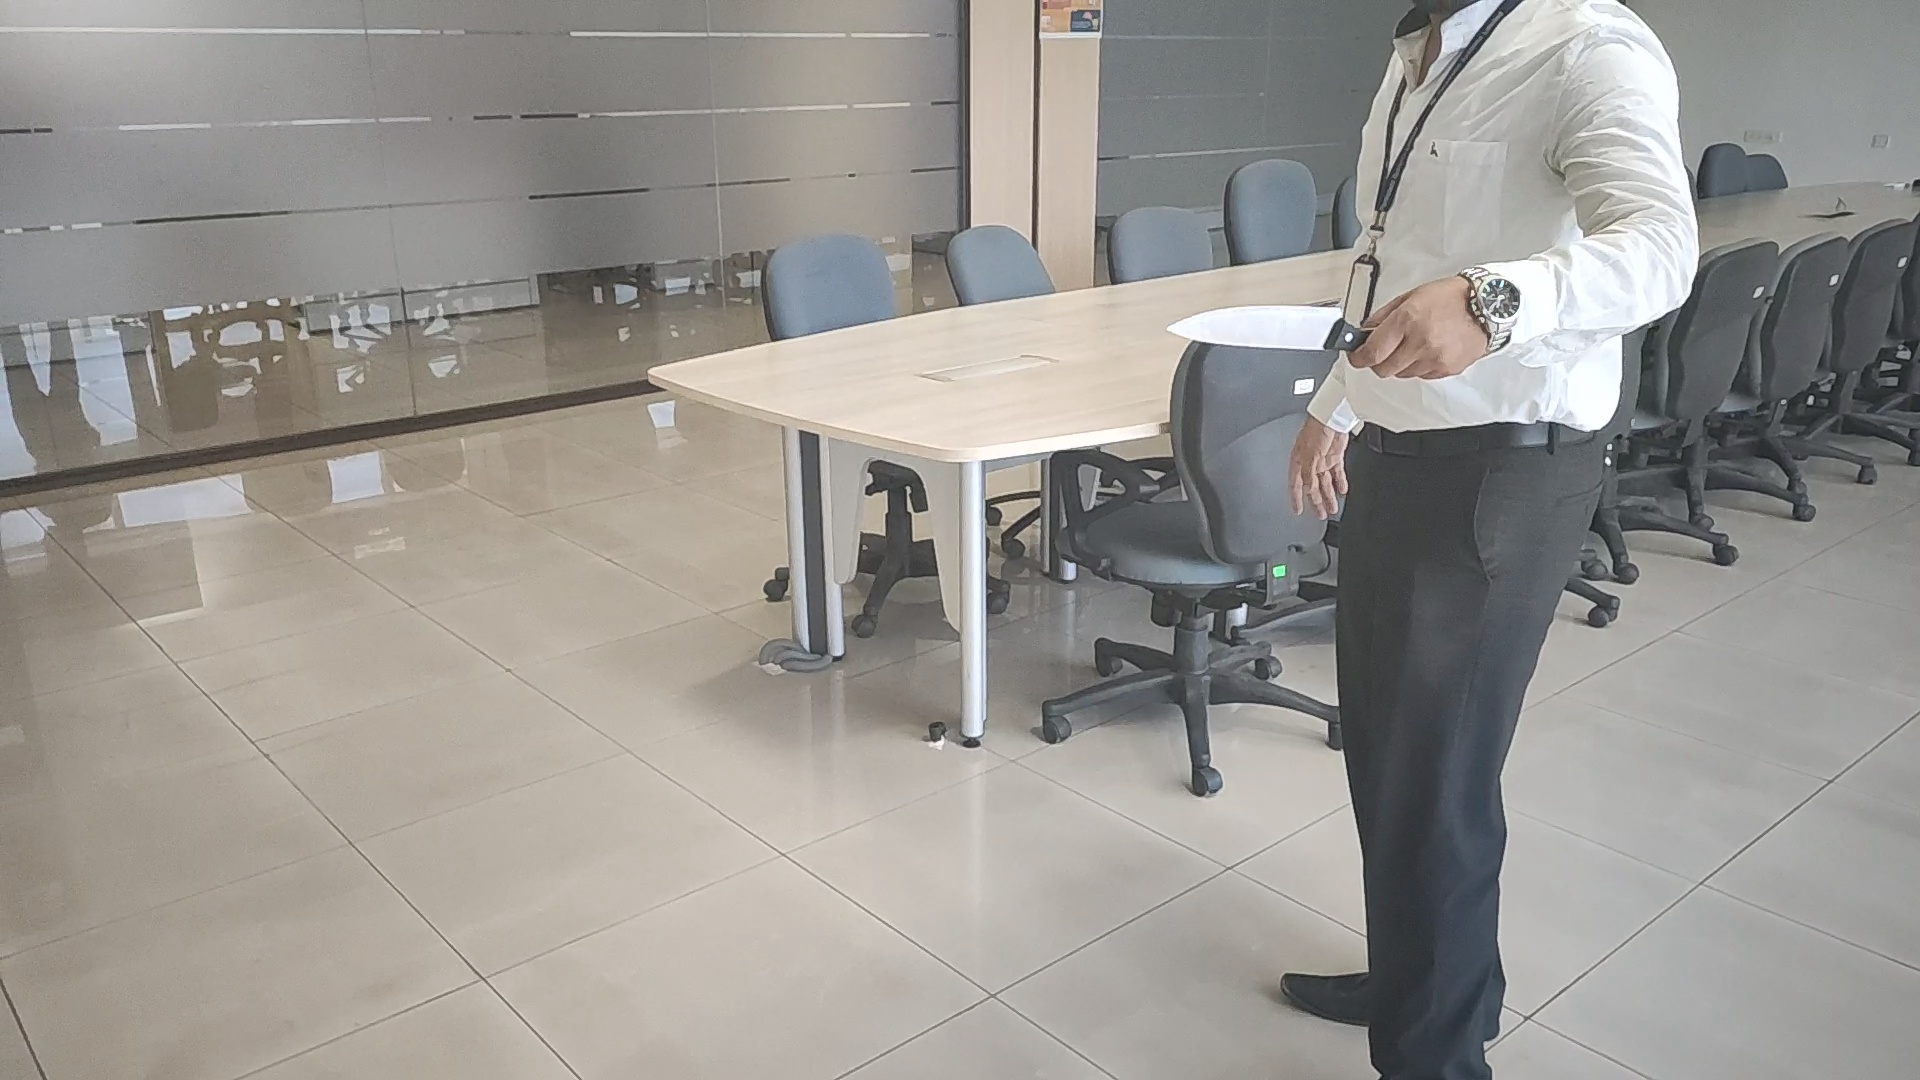knife: (1164, 301, 1358, 355)
